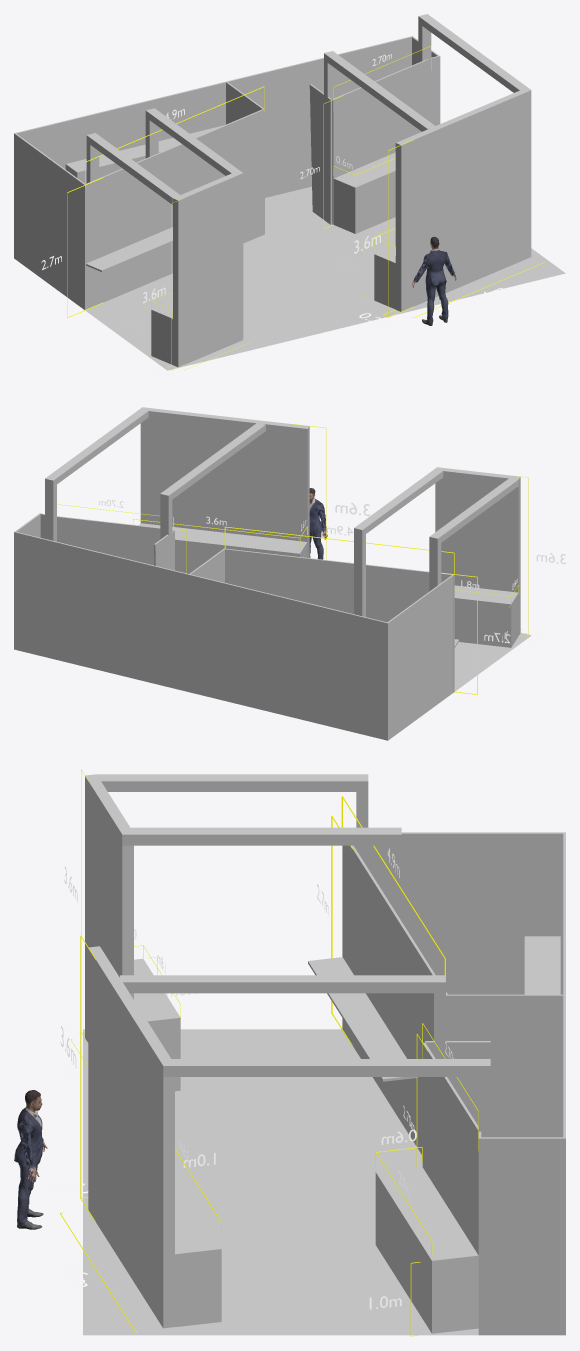
File: labelforum26study_vera.glb
The picture shows the model from 3 angles, top to bottom: view 1: azimuth 30°, elevation 25°; view 2: azimuth 150°, elevation 25°; view 3: azimuth 270°, elevation 25°; orthographic projection. The views are drawn at different scales.
Parts seen in each view (by area): view 1: floor.002, Cube.035, Plane.010, Cube.038, Cube.046, Cube.012, Cube.037, Cube.045, Cube.033, loic_lp.008, Cube.040, Cube.036 (+16 smaller); view 2: Plane.010, Cube.035, Cube.038, Cube.046, Cube.012, Cube.044, Cube.037, Cube.043, floor.002, Cube.040, Cube.036, Cube.041 (+10 smaller); view 3: floor.002, Cube.035, Cube.012, Cube.008, Cube.032, Cube.045, Cube.038, Cube.046, Cube.037, Cube.040, Cube.036, Cube.043 (+16 smaller).
Boxes of the visible parts, bbox=[...] form: floor.002: bbox=[85, 186, 565, 370]; Cube.035: bbox=[395, 88, 531, 311]; Plane.010: bbox=[14, 36, 412, 258]; Cube.038: bbox=[84, 109, 264, 309]; Cube.046: bbox=[173, 171, 243, 367]; Cube.012: bbox=[15, 133, 86, 309]; Cube.037: bbox=[332, 58, 430, 224]; Cube.045: bbox=[333, 152, 395, 233]; Cube.033: bbox=[309, 84, 331, 224]; loic_lp.008: bbox=[412, 236, 456, 325]; Cube.040: bbox=[327, 53, 436, 131]; Cube.036: bbox=[422, 17, 530, 92]; Plane.010: bbox=[14, 531, 388, 740]; Cube.035: bbox=[140, 407, 309, 557]; Cube.038: bbox=[225, 548, 453, 692]; Cube.046: bbox=[435, 467, 520, 635]; Cube.012: bbox=[387, 574, 454, 739]; Cube.044: bbox=[454, 585, 518, 647]; Cube.037: bbox=[57, 516, 173, 565]; Cube.043: bbox=[139, 523, 307, 573]; floor.002: bbox=[454, 633, 531, 691]; Cube.040: bbox=[164, 422, 265, 499]; Cube.036: bbox=[49, 407, 148, 484]; Cube.041: bbox=[358, 467, 443, 533]; floor.002: bbox=[83, 1029, 478, 1335]; Cube.035: bbox=[88, 946, 174, 1328]; Cube.012: bbox=[342, 832, 563, 1029]; Cube.008: bbox=[478, 1131, 563, 1335]; Cube.032: bbox=[446, 994, 563, 1137]; Cube.045: bbox=[375, 1167, 478, 1333]; Cube.038: bbox=[342, 845, 447, 1154]; Cube.046: bbox=[85, 774, 133, 1042]; Cube.037: bbox=[422, 1042, 478, 1254]; Cube.040: bbox=[120, 975, 433, 993]; Cube.036: bbox=[163, 1059, 478, 1076]; Cube.043: bbox=[175, 1176, 221, 1327].
Size of the model in its own units: 10.32 by 3.61 by 6.86.
3 materials, 1 textured.
